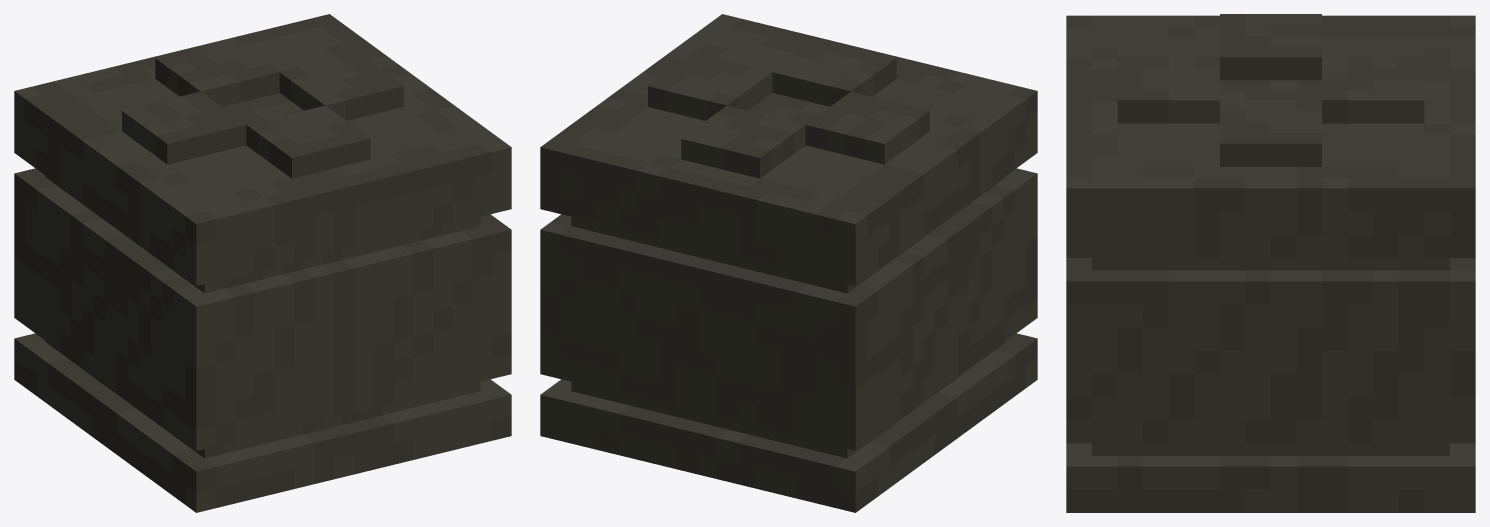
Rendered from slideBox2.obj.
3 renders of one model, left to right at view 1: azimuth 30°, elevation 25°; view 2: azimuth 150°, elevation 25°; view 3: azimuth 270°, elevation 25°, orthographic. The views are drawn at different scales.
Size of the model in its own units: 1.6 by 1.5 by 1.6.
1 material, 1 textured.
